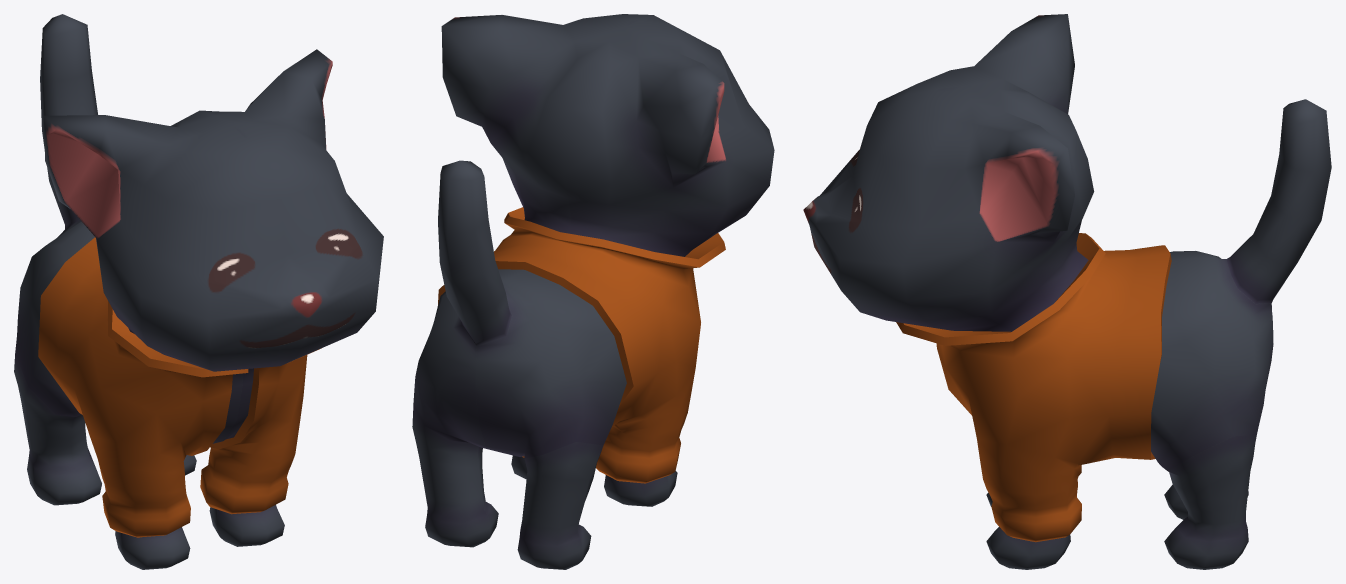
The model's file is Varsity Cat03.fbx.
3 views of the same model, side by side, from view 1: azimuth 30°, elevation 25°; view 2: azimuth 150°, elevation 25°; view 3: azimuth 270°, elevation 25° (orthographic). The views are drawn at different scales.
Visible parts, largest first — view 1: Cat_Base002, Varsity_Cat_Jersey; view 2: Cat_Base002, Varsity_Cat_Jersey; view 3: Cat_Base002, Varsity_Cat_Jersey.
Boxes of the visible parts, box(x1,y1,x2,y2) form: Cat_Base002: box(14, 14, 383, 569); Varsity_Cat_Jersey: box(38, 237, 321, 537); Cat_Base002: box(412, 14, 774, 569); Varsity_Cat_Jersey: box(438, 207, 725, 483); Cat_Base002: box(803, 14, 1331, 569); Varsity_Cat_Jersey: box(896, 233, 1171, 542).
Size of the model in its own units: 1.75 by 2.83 by 2.68.
Materials: 2 (1 with a texture image).
